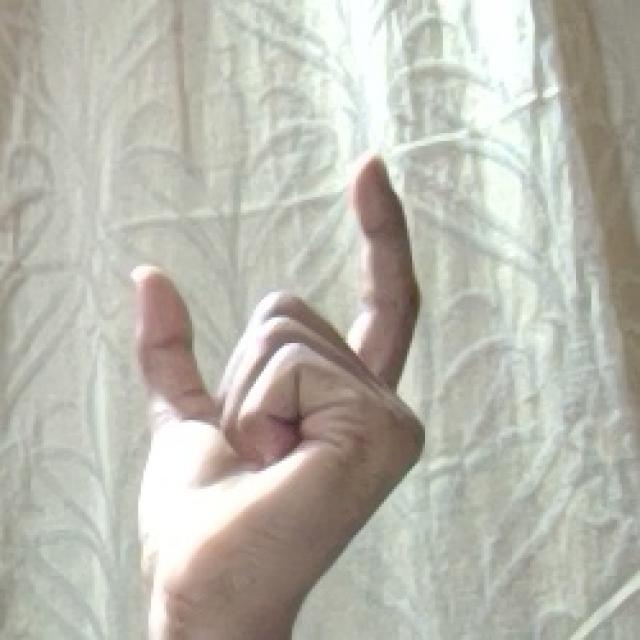Alphabet-U: (110, 146, 440, 640)
